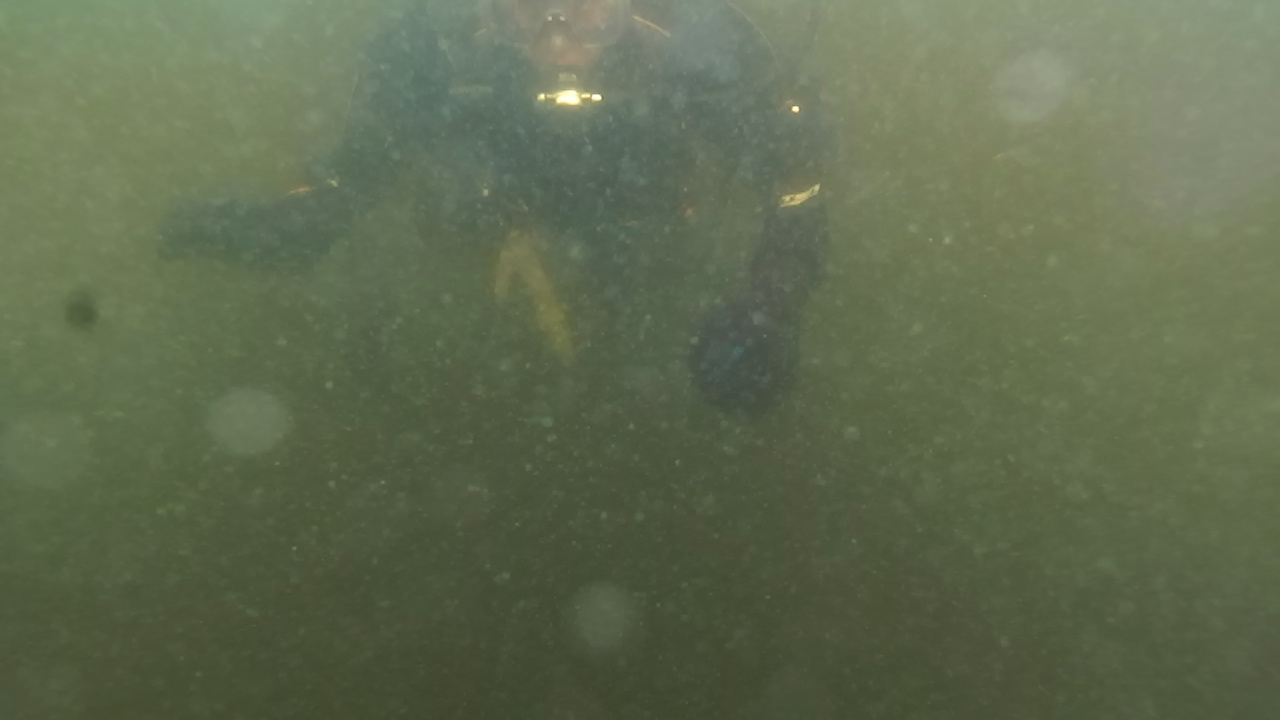Diver: (156, 4, 864, 442)
Hand: (162, 174, 344, 290), (676, 296, 806, 428)
Head: (500, 6, 630, 106)
